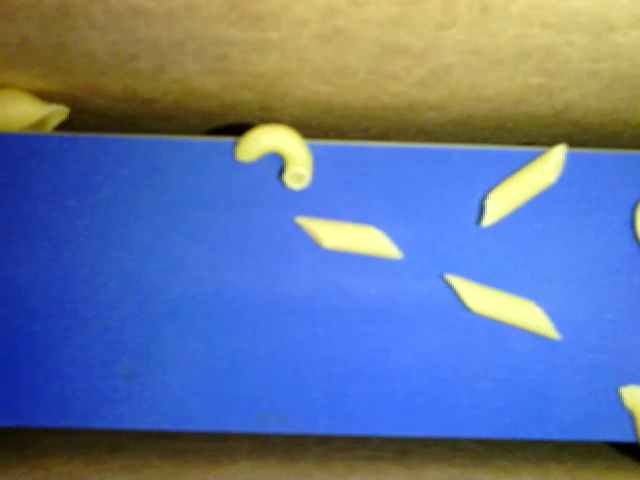elbow: (237, 122, 312, 190)
penne: (441, 269, 559, 339), (476, 141, 568, 230), (292, 217, 403, 263)
shell: (1, 85, 71, 136)
